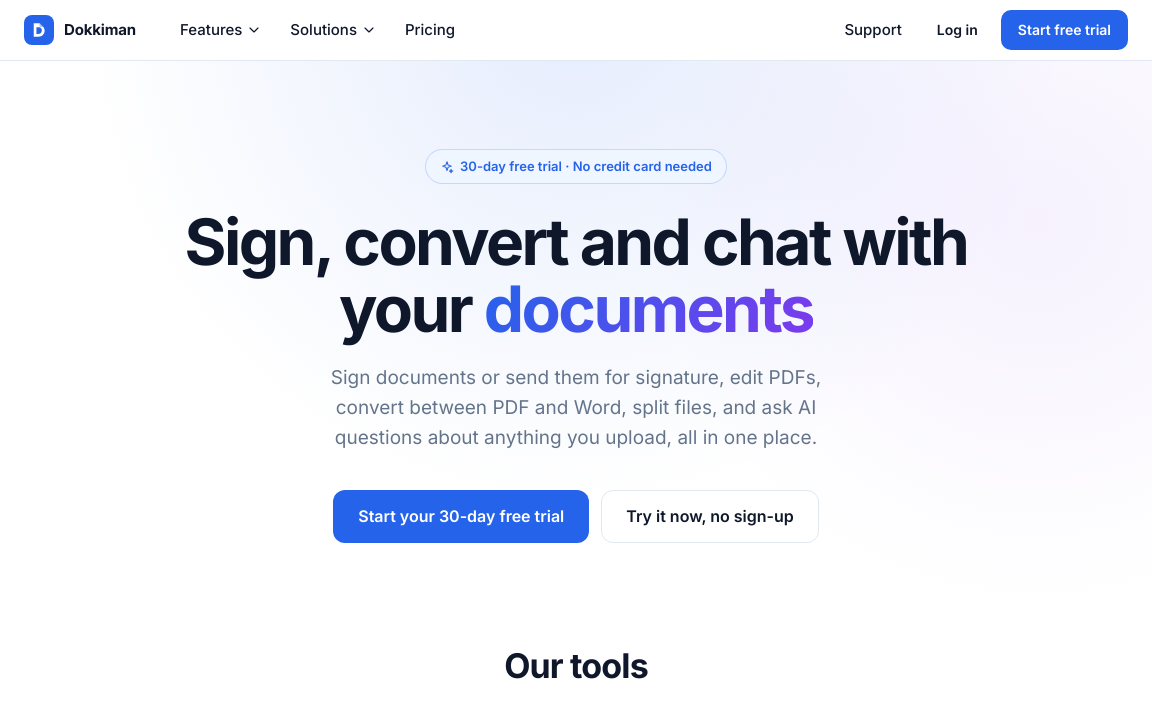
it: hitting a guest limit offers a free account
This screenshot has width=1152, height=720.
Step 1. Click the button "Try it now, no sign-up" → (710, 516), box [601,490,819,543]
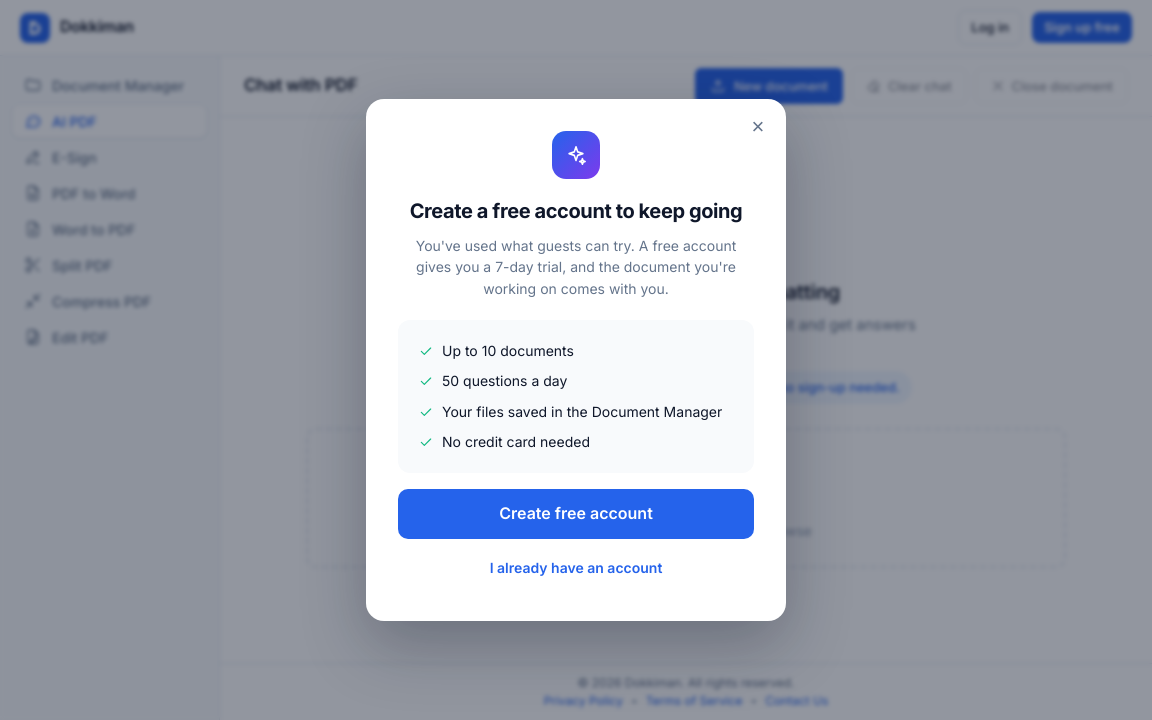
Expected: the heading "Chat with PDF" is shown, [244,72,358,100]
Now the dialog shows "Create a free account to keep going", box [410,199,742,223]
Now the dialog shows "the document you're working on comes with you", box [483,258,736,297]
Step 2. Click the button "I already have an account" → (576, 568), box [398,547,754,589]
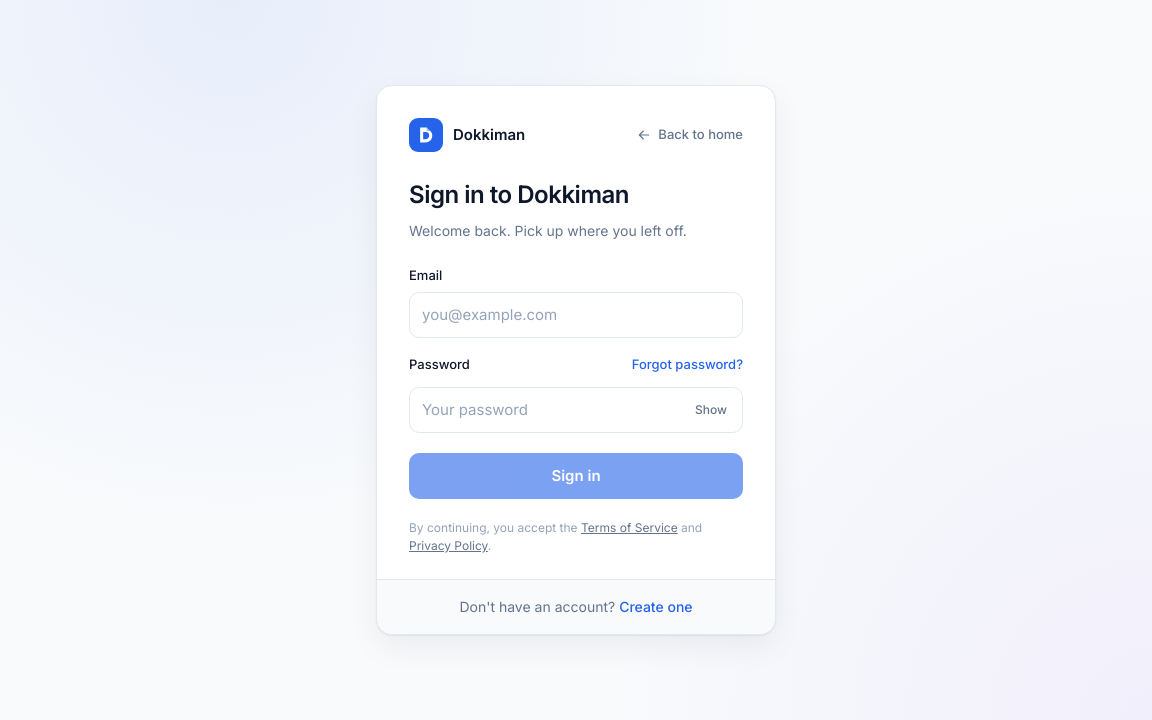
Now the heading "Sign in to Dokkiman" is shown, box [409,180,629,209]
